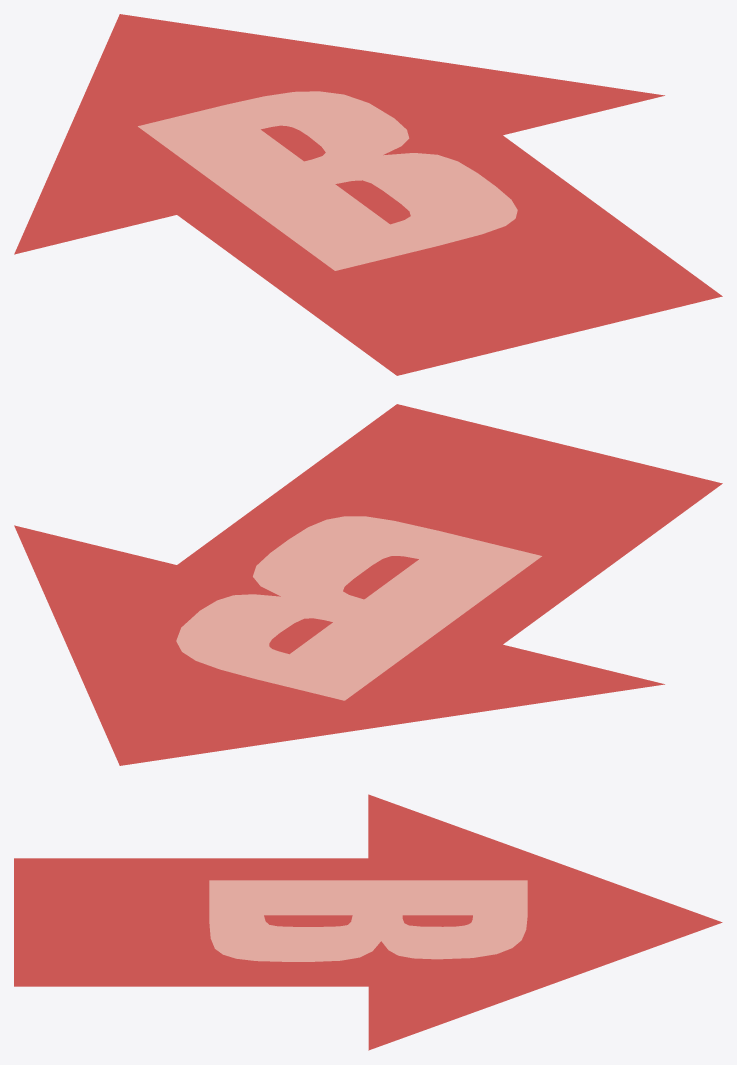
File: DE_Guide_B_01.fbx
The picture shows the model from 3 angles, top to bottom: view 1: azimuth 30°, elevation 25°; view 2: azimuth 150°, elevation 25°; view 3: azimuth 270°, elevation 25°; orthographic projection. The views are drawn at different scales.
Visible parts, largest first — view 1: DE_Guide_B_01; view 2: DE_Guide_B_01; view 3: DE_Guide_B_01.
Boxes of the visible parts, x1,y1,x2,y2 form: DE_Guide_B_01: (14, 14, 722, 375); DE_Guide_B_01: (14, 404, 722, 765); DE_Guide_B_01: (14, 794, 722, 1050).
Bounding box in the file's own units: 102 × 0.2523 × 120.
